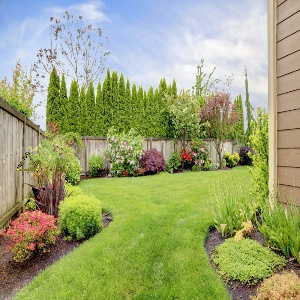triangle: (13, 149, 41, 175)
